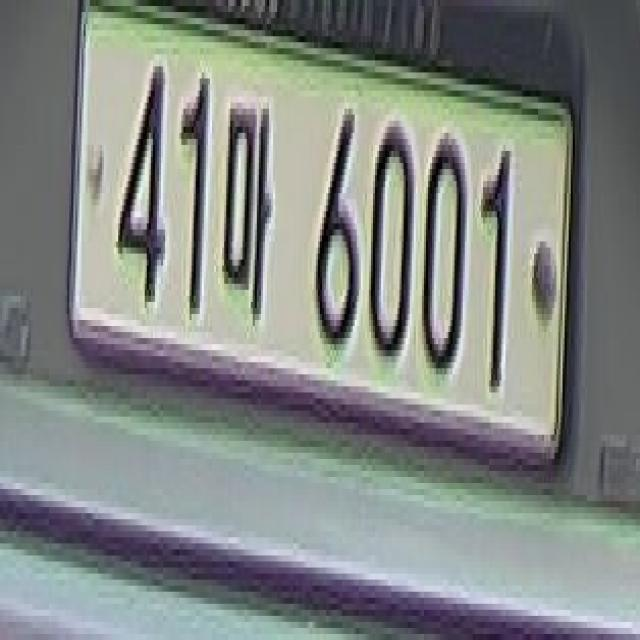0: (371, 109, 416, 362), (424, 121, 467, 380)
1: (479, 151, 516, 398), (179, 66, 212, 326)
4: (118, 54, 167, 308)
6: (312, 109, 361, 356)
license_plate: (69, 6, 573, 465)
ma: (222, 91, 275, 320)
